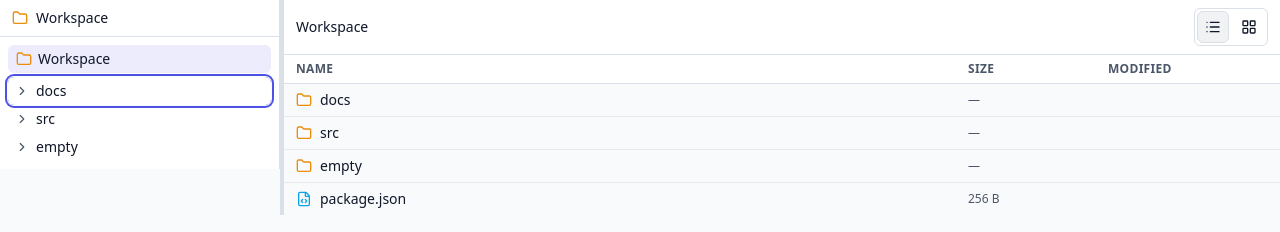
Test: FileExplorer › toggles between list and grid view modes
Expected: the text "Name" is shown, x1=296 y1=60 x2=333 y2=77
Click the button named "Grid view". click: (1249,27)
box: x1=1233 y1=11 x2=1265 y2=43
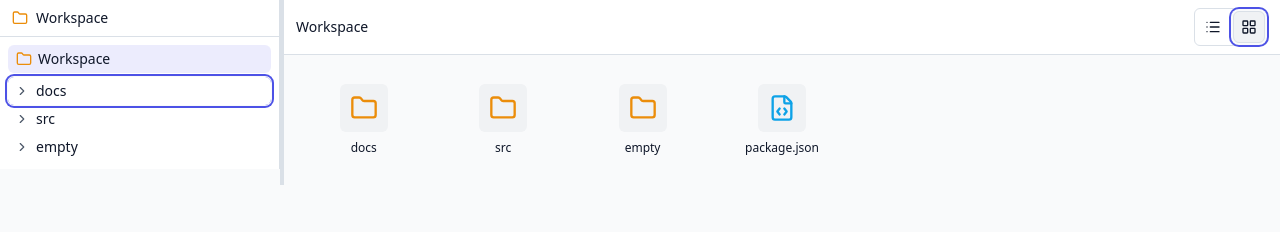
Expected: the option with test id "fe-tile-docs" is shown, x1=340 y1=84 x2=388 y2=156
Result: the text "Name" is gone
Click the button named "List view". click: (1213,27)
box: x1=1197 y1=11 x2=1229 y2=43
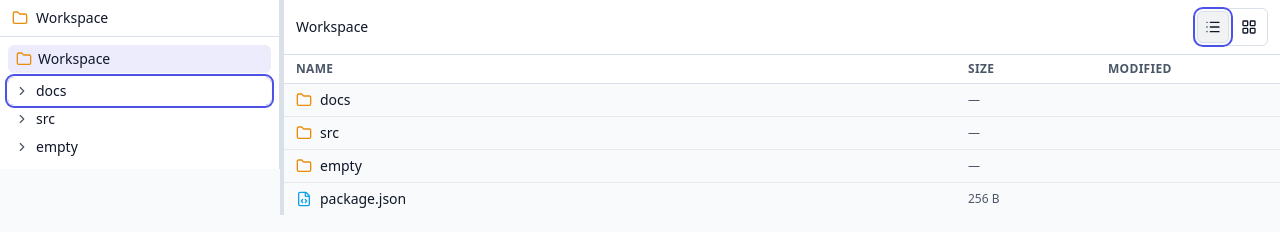
Result: the text "Name" is shown at x1=296 y1=60 x2=333 y2=77
